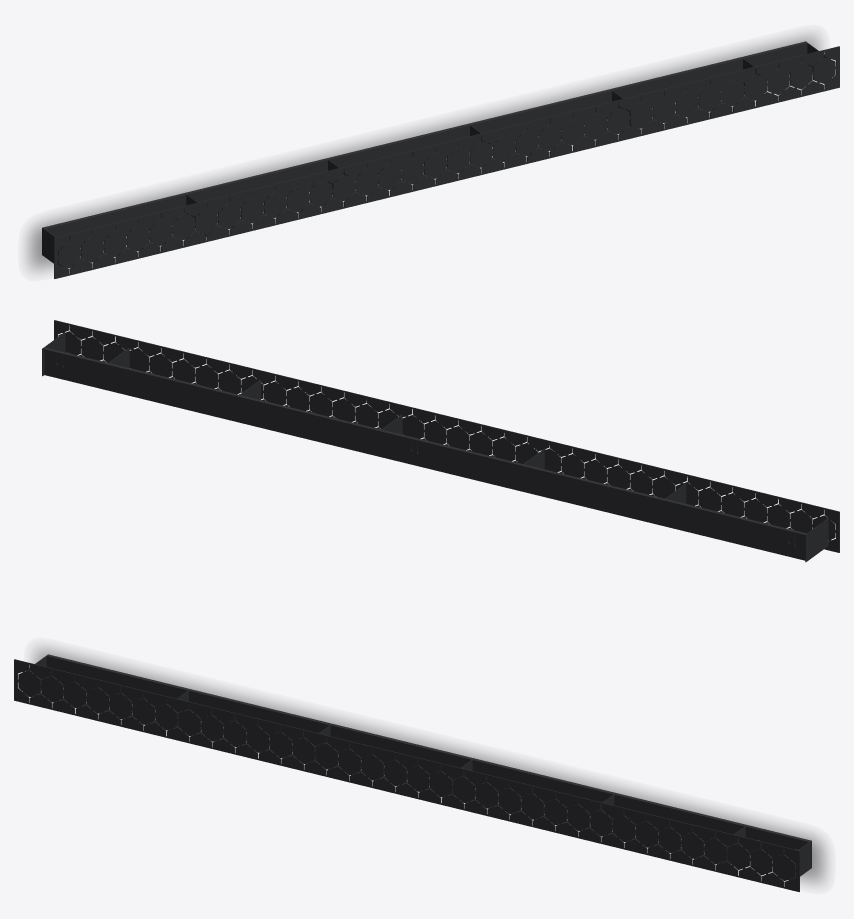
File: bee-patron.a272a1a070.ar.glb
The picture shows the model from 3 angles, top to bottom: view 1: azimuth 30°, elevation 25°; view 2: azimuth 150°, elevation 25°; view 3: azimuth 330°, elevation 25°; orthographic projection.
Visible parts, largest first — view 1: NAUO1, object 2; view 2: NAUO1; view 3: NAUO1, object 2.
Part boxes in pixels (<box>): NAUO1: <box>42,41,839,278</box>; object 2: <box>26,34,821,271</box>; NAUO1: <box>42,320,839,562</box>; NAUO1: <box>14,654,811,891</box>; object 2: <box>32,647,827,884</box>.
Bounding box in the file's own units: 1.88 × 0.17 × 0.092.
Materials: 2 (1 with a texture image).
